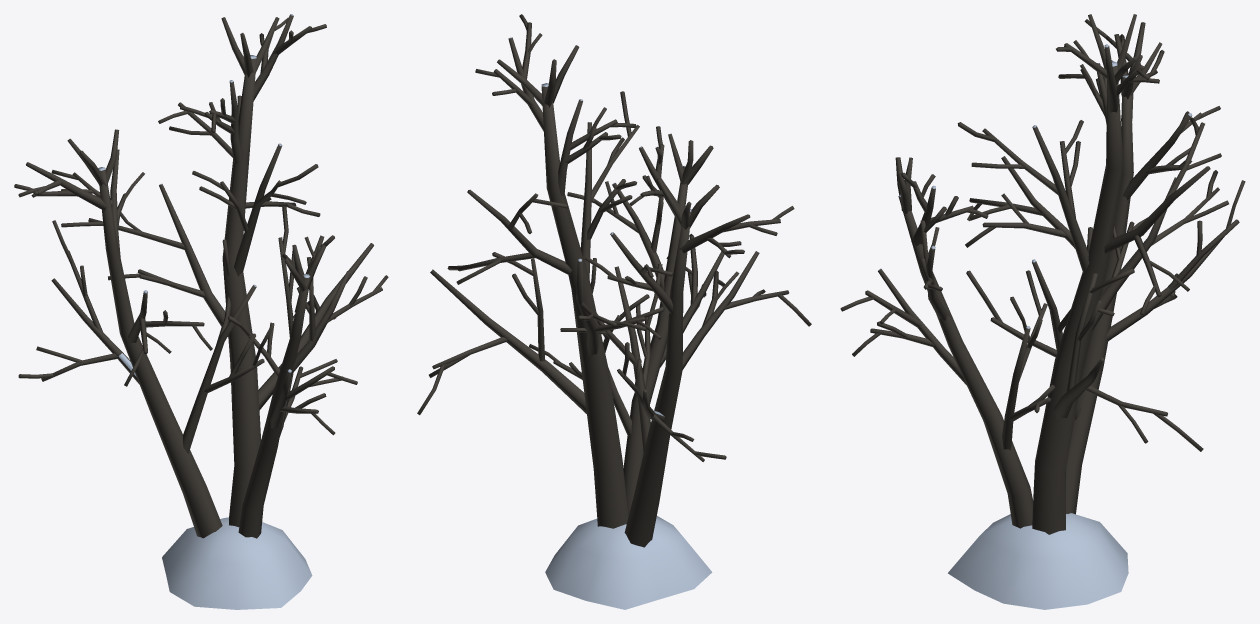
The model's file is dead_tree_c.glb.
3 views of the same model, side by side, from view 1: azimuth 30°, elevation 25°; view 2: azimuth 150°, elevation 25°; view 3: azimuth 270°, elevation 25° (orthographic). The views are drawn at different scales.
Parts seen in each view (by area): view 1: Tree; view 2: Tree; view 3: Tree.
Boxes of the visible parts, bbox=[...] form: Tree: bbox=[14, 14, 388, 609]; Tree: bbox=[417, 14, 811, 609]; Tree: bbox=[840, 14, 1245, 609].
Size of the model in its own units: 2.54 by 3.67 by 2.34.
